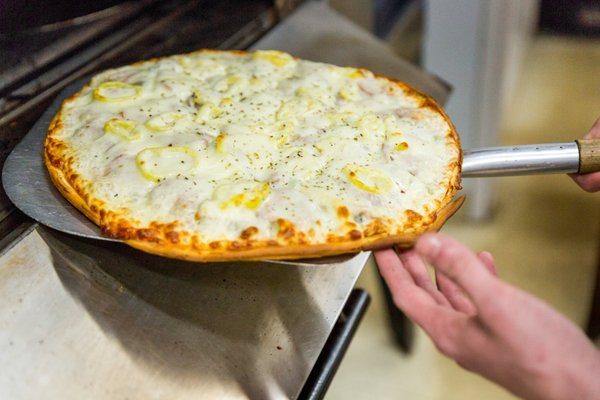sandwich: (294, 287, 371, 397)
